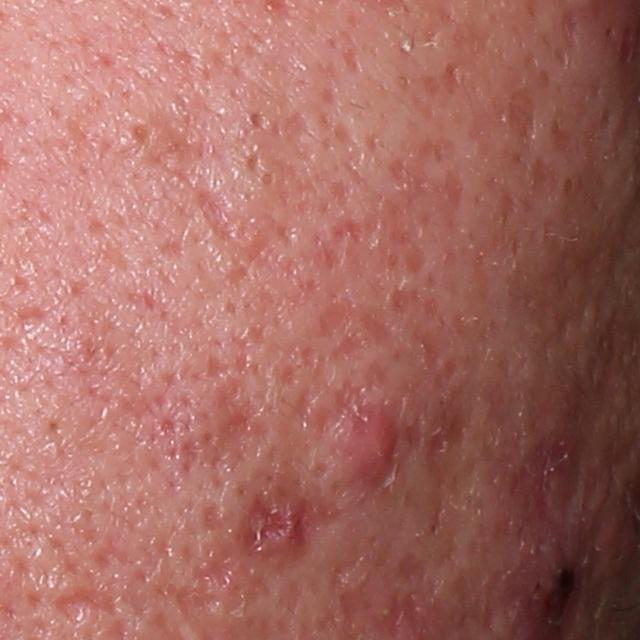atrophic_scar: (176, 372, 273, 472), (174, 551, 246, 614), (196, 188, 261, 251), (237, 486, 300, 551), (424, 393, 474, 468), (57, 586, 124, 627), (500, 85, 539, 154), (310, 293, 352, 341), (557, 2, 585, 61), (328, 114, 359, 150), (342, 44, 365, 83), (198, 497, 218, 532), (317, 82, 342, 109)
comedo: (127, 121, 153, 144), (258, 169, 276, 190)
papule: (346, 401, 396, 487)
